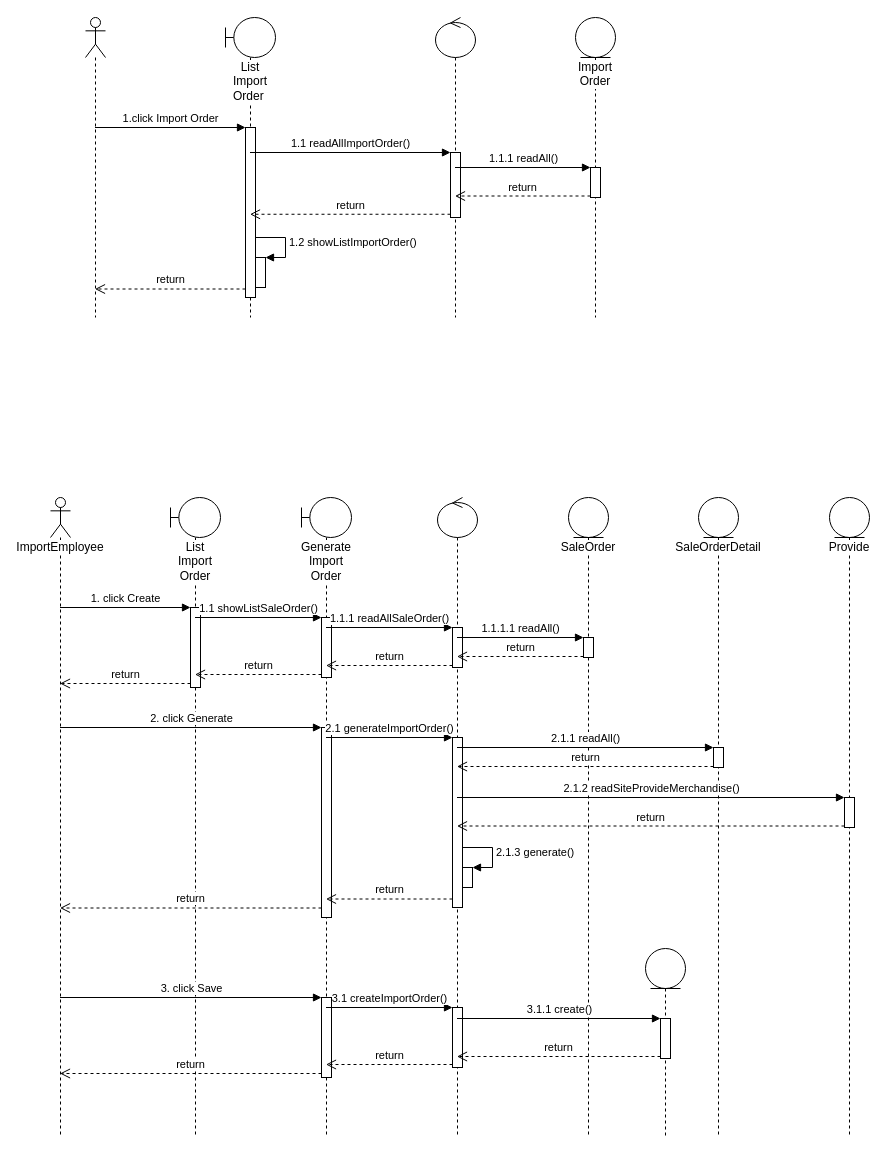
Image size: 887x1155. Some labels were removed from this diagram. The box of each missing label's shape, as (x1, y1, x2, y2) in pixels:
Import Order Controller: (434, 16, 476, 318)
Import Order Employee: (84, 16, 106, 318)
ImportOrder: (644, 948, 686, 1138)
ImportOrder Controller: (436, 496, 478, 1138)
